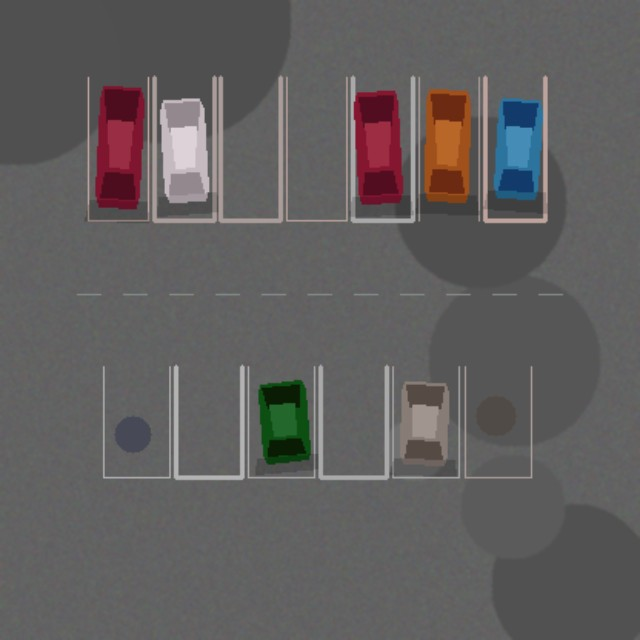space-empty: (220, 77, 280, 220), (286, 77, 346, 220), (175, 366, 242, 477), (103, 366, 169, 477), (320, 366, 386, 477), (465, 366, 531, 477)
space-occupied: (88, 77, 148, 220), (154, 77, 214, 220), (352, 77, 412, 220), (418, 77, 478, 220), (485, 77, 545, 220), (248, 366, 314, 477), (392, 366, 458, 477)
